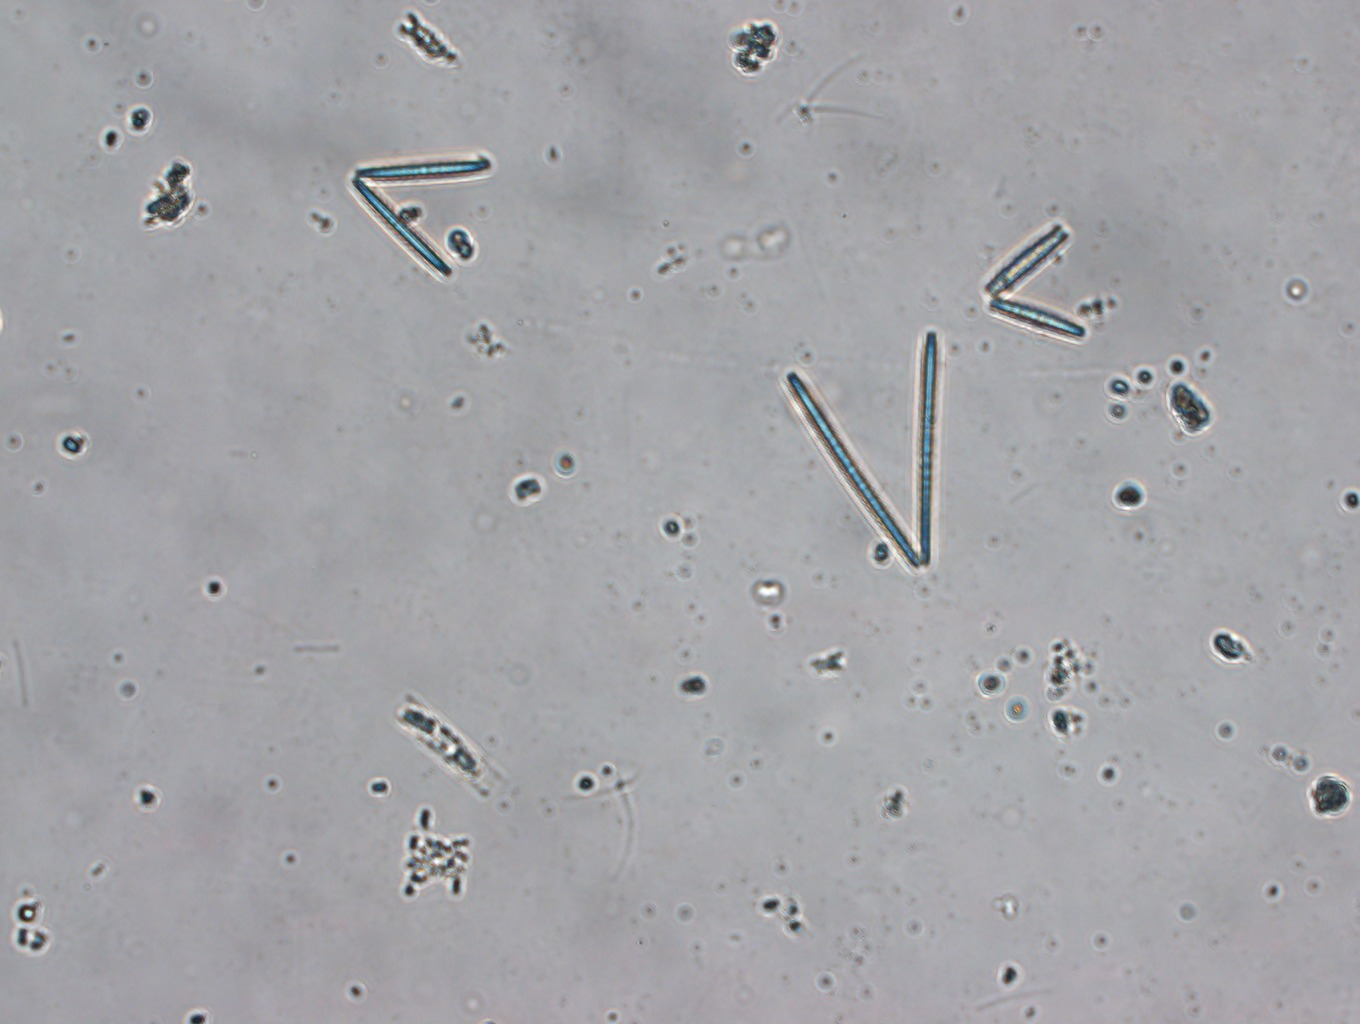thalassionema frauenfeldii: (779, 328, 954, 574), (346, 150, 505, 285), (980, 222, 1090, 358)
